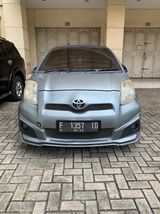plate: (58, 119, 101, 135)
